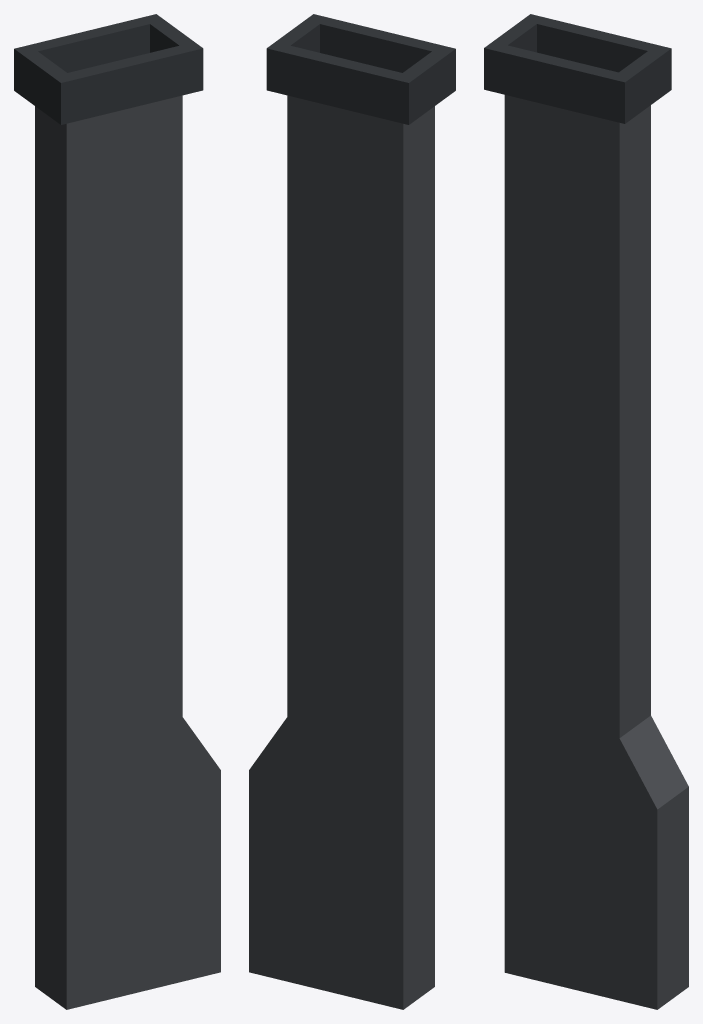
File: Chimney4_C1.fbx
3 renders of one model, left to right at view 1: azimuth 30°, elevation 25°; view 2: azimuth 150°, elevation 25°; view 3: azimuth 330°, elevation 25°, orthographic.
Parts seen in each view (by area): view 1: Chimney4_C1; view 2: Chimney4_C1; view 3: Chimney4_C1.
Part boxes in pixels (bbox=[...]): Chimney4_C1: bbox=[14, 14, 220, 1009]; Chimney4_C1: bbox=[249, 14, 455, 1009]; Chimney4_C1: bbox=[484, 14, 688, 1009].
Size of the model in its own units: 99.24 by 530 by 48.19.
